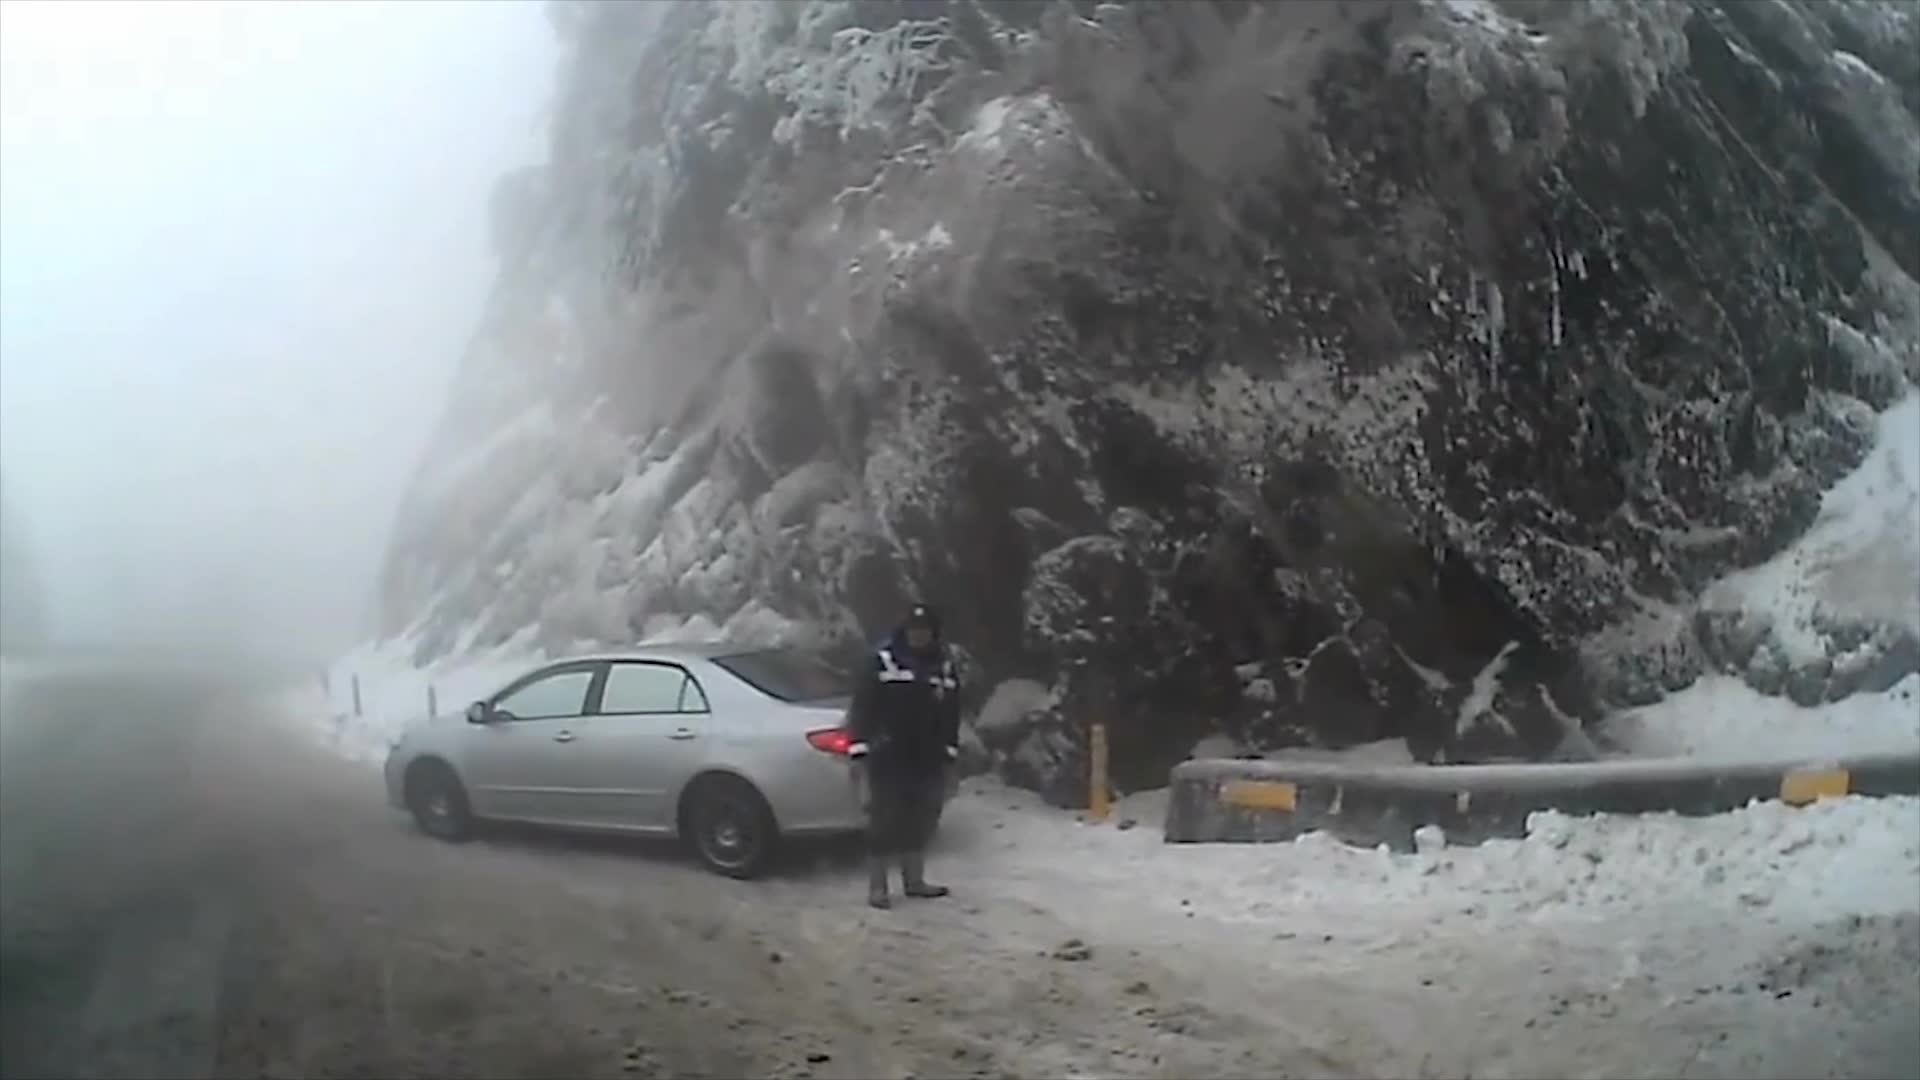pedestrian: (844, 600, 957, 911)
vehicle: (383, 640, 961, 880)
